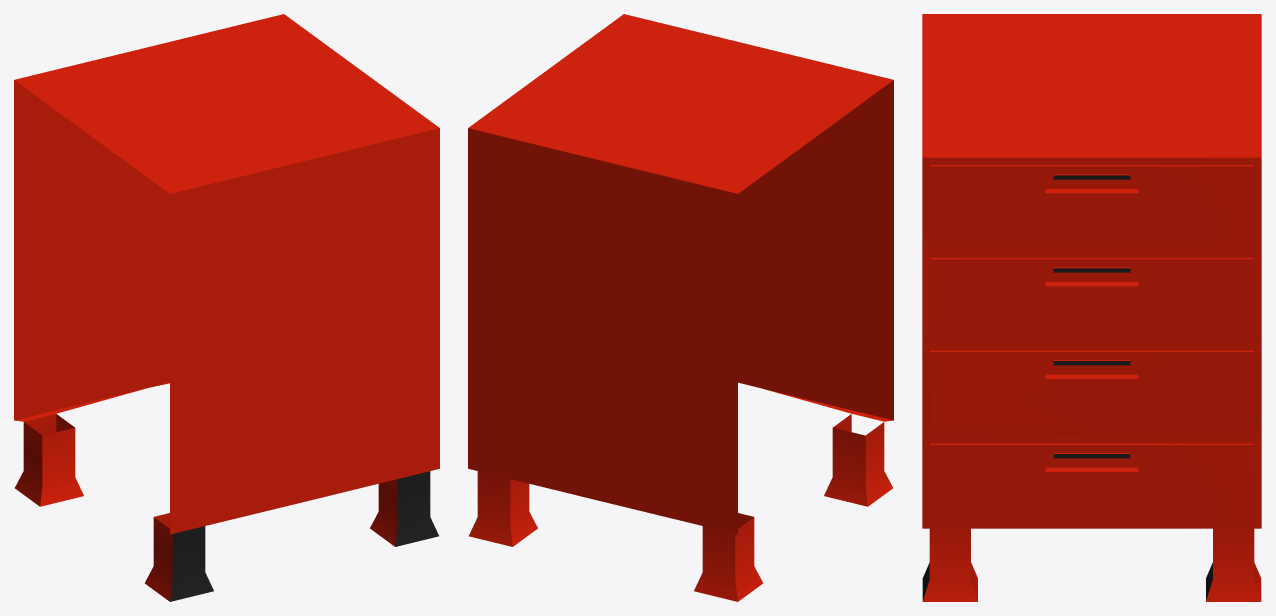
The model's file is rak.fbx.
3 renders of one model, left to right at view 1: azimuth 30°, elevation 25°; view 2: azimuth 150°, elevation 25°; view 3: azimuth 270°, elevation 25°, orthographic. The views are drawn at different scales.
Visible parts, largest first — view 1: lemaria merah; view 2: lemaria merah; view 3: lemaria merah.
Part boxes in pixels (<box>): lemaria merah: <box>14,14,439,601</box>; lemaria merah: <box>468,14,893,601</box>; lemaria merah: <box>922,14,1261,601</box>.
Bounding box in the file's own units: 120 × 172 × 119.
